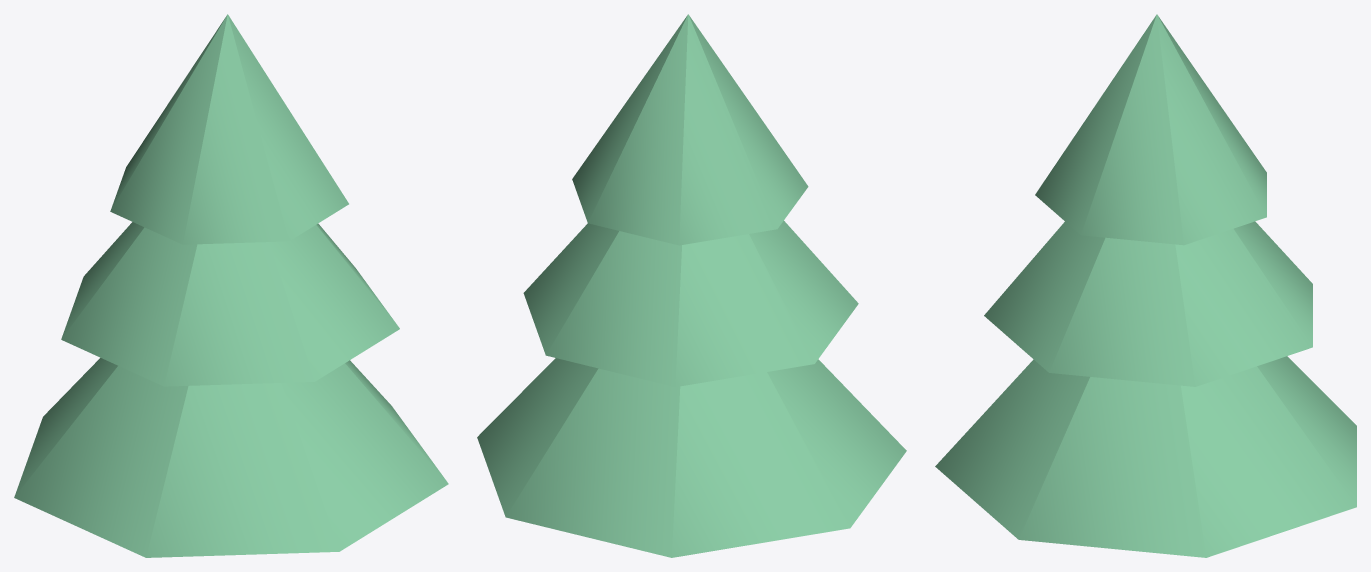
File: pine1.glb
The picture shows the model from 3 angles, left to right: view 1: azimuth 30°, elevation 25°; view 2: azimuth 150°, elevation 25°; view 3: azimuth 270°, elevation 25°; orthographic projection.
Visible parts, largest first — view 1: pine1; view 2: pine1; view 3: pine1.
Boxes of the visible parts, box(x1,y1,x2,y2) form: pine1: box(14, 14, 448, 557); pine1: box(477, 14, 906, 557); pine1: box(935, 14, 1356, 557).
Size of the model in its own units: 1.95 by 2.6 by 1.9.
